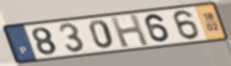0: (88, 19, 115, 50)
3: (59, 21, 88, 54)
6: (172, 9, 201, 41), (144, 13, 171, 44)
8: (31, 26, 59, 56)
H: (108, 13, 151, 49)
